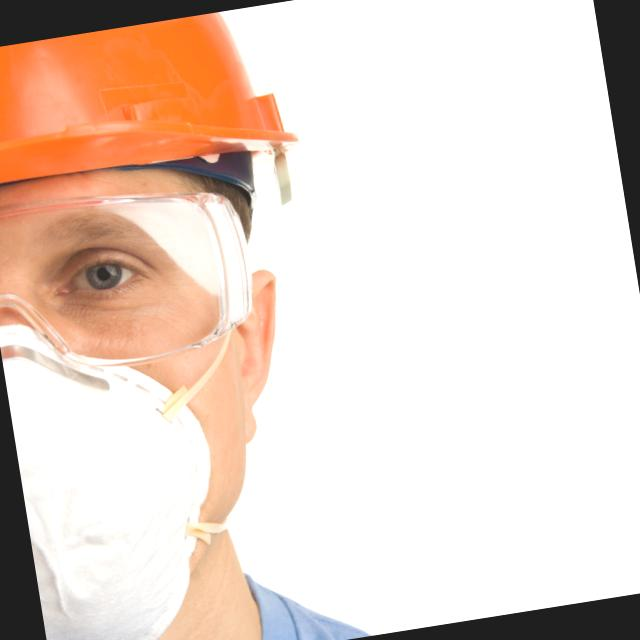goggles: (0, 170, 274, 375)
helmet: (0, 8, 303, 204)
